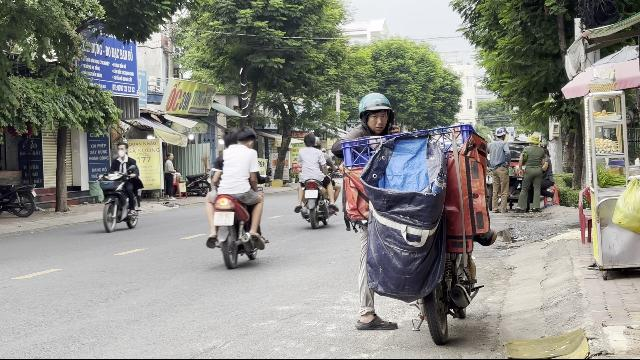licenseplate: (213, 211, 234, 225)
motorcyclist: (201, 125, 267, 267), (97, 140, 143, 232)
nohelmet: (234, 127, 256, 147), (222, 127, 236, 147), (116, 140, 128, 156)
